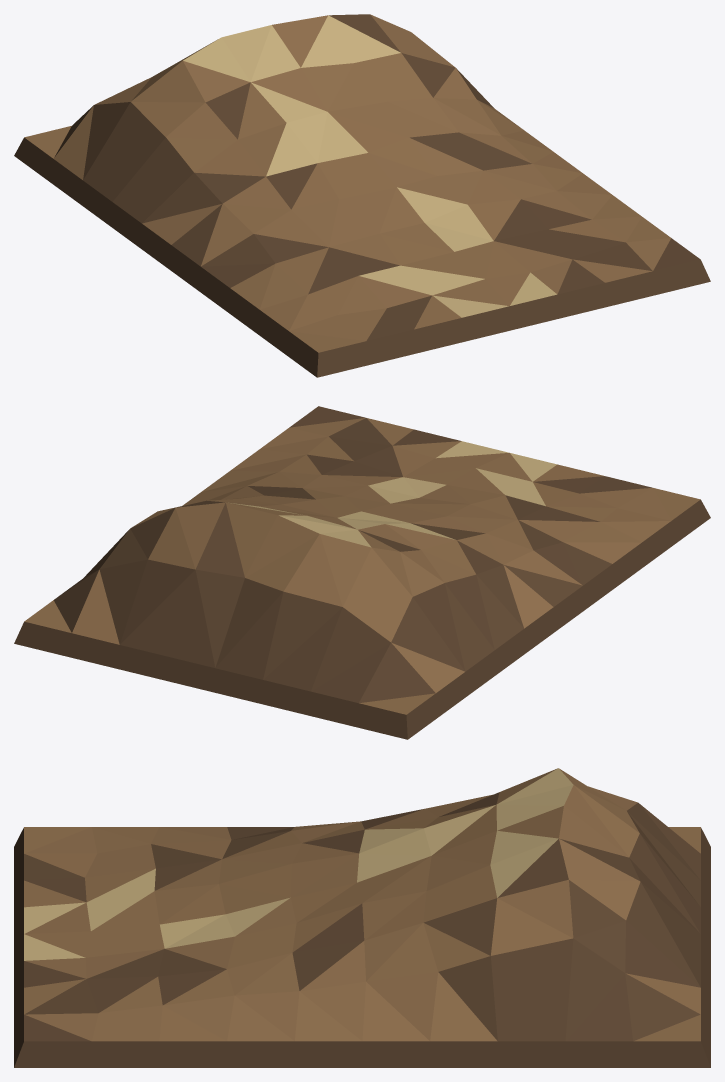
Rendered from prop_ramp_dirt.glb.
3 renders of one model, top to bottom at view 1: azimuth 30°, elevation 25°; view 2: azimuth 150°, elevation 25°; view 3: azimuth 270°, elevation 25°, orthographic. The views are drawn at different scales.
Visible parts, largest first — view 1: prop_ramp_dirt__mesh; view 2: prop_ramp_dirt__mesh; view 3: prop_ramp_dirt__mesh.
Boxes of the visible parts, x1,y1,x2,y2 form: prop_ramp_dirt__mesh: [14, 14, 710, 377]; prop_ramp_dirt__mesh: [14, 406, 710, 739]; prop_ramp_dirt__mesh: [14, 768, 710, 1067].
Bounding box in the file's own units: 6 × 1.9 × 8.
1 material, 1 textured.
